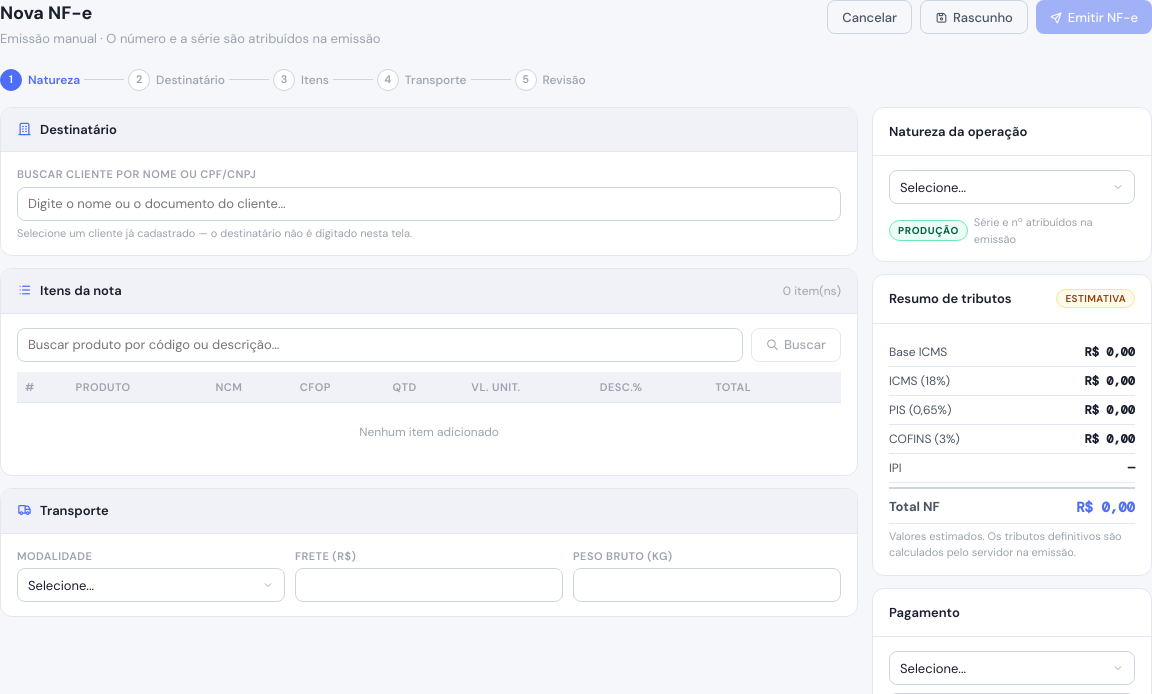
Test case: NfeFormComponent › trilha → painéis › revisão › opens for an incomplete form showing current data, with Confirmar disabled
Click the element with class "step-item" showing "5 Revisão": (550, 80) left=514, top=68, right=586, bottom=90
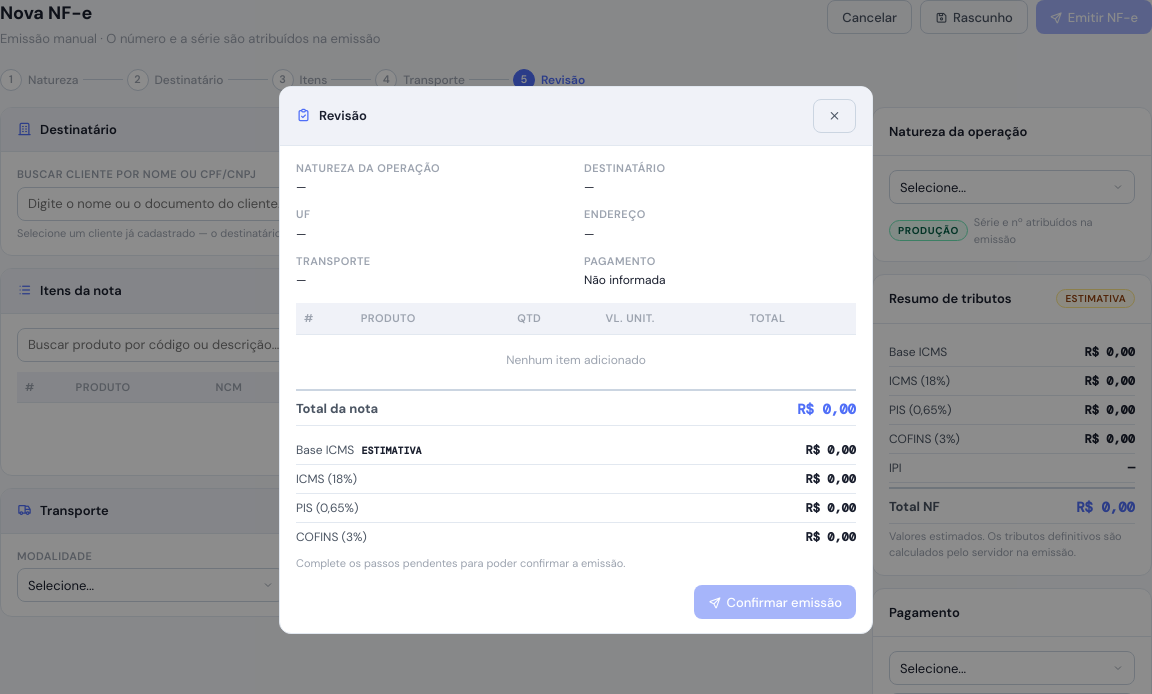
Expected: the 2nd text "—" is shown, left=584, top=179, right=594, bottom=195
Now the text "Não informada" is shown, box left=584, top=272, right=666, bottom=288
